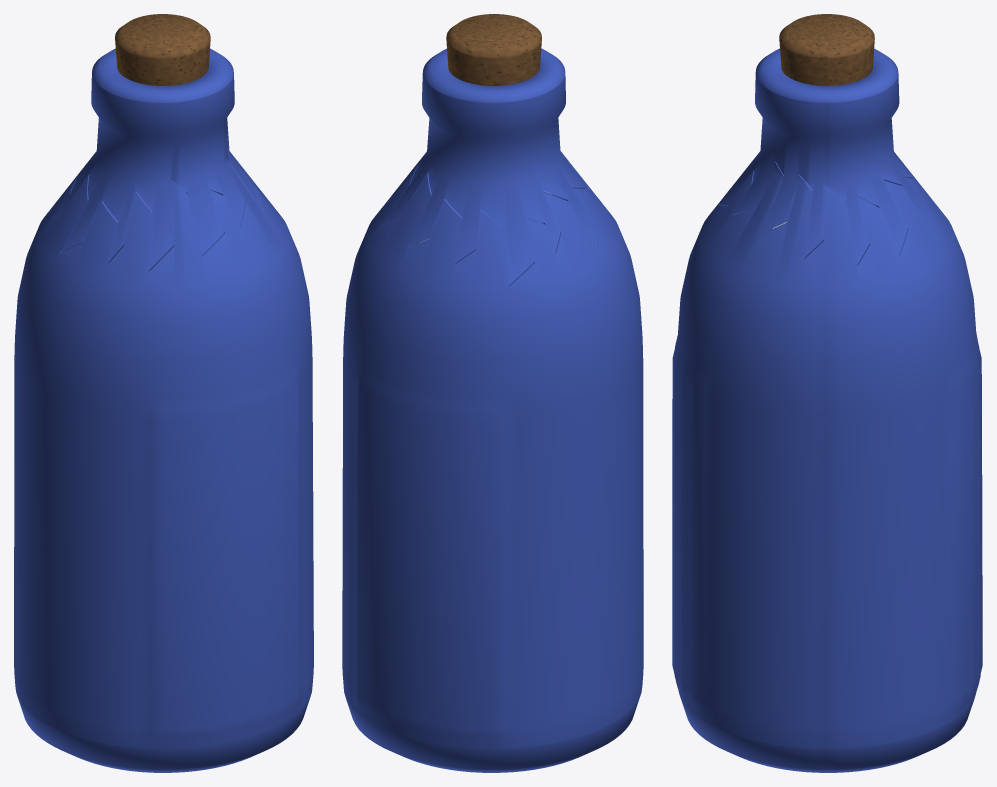
The model's file is bottle_apothecary_broken.glb.
3 renders of one model, left to right at view 1: azimuth 30°, elevation 25°; view 2: azimuth 150°, elevation 25°; view 3: azimuth 270°, elevation 25°, orthographic.
Parts seen in each view (by area): view 1: Glass.001, Neck, Cap; view 2: Glass.001, Neck, Cap; view 3: Glass.001, Neck, Cap.
Boxes of the visible parts, left/top/right/bottom form: Glass.001: left=14, top=152, right=313, bottom=772; Neck: left=49, top=48, right=261, bottom=269; Cap: left=115, top=14, right=210, bottom=85; Glass.001: left=342, top=160, right=643, bottom=772; Neck: left=381, top=48, right=608, bottom=284; Cap: left=446, top=14, right=541, bottom=85; Glass.001: left=672, top=152, right=982, bottom=772; Neck: left=719, top=48, right=937, bottom=263; Cap: left=779, top=14, right=874, bottom=85.
Bounding box in the file's own units: 0.0463 × 0.1177 × 0.048.
Materials: 3 (1 with a texture image).
